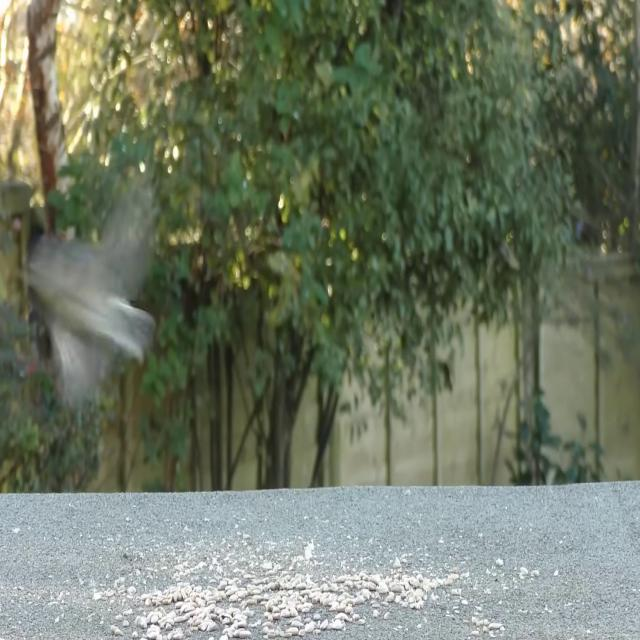bird: (21, 193, 158, 413)
